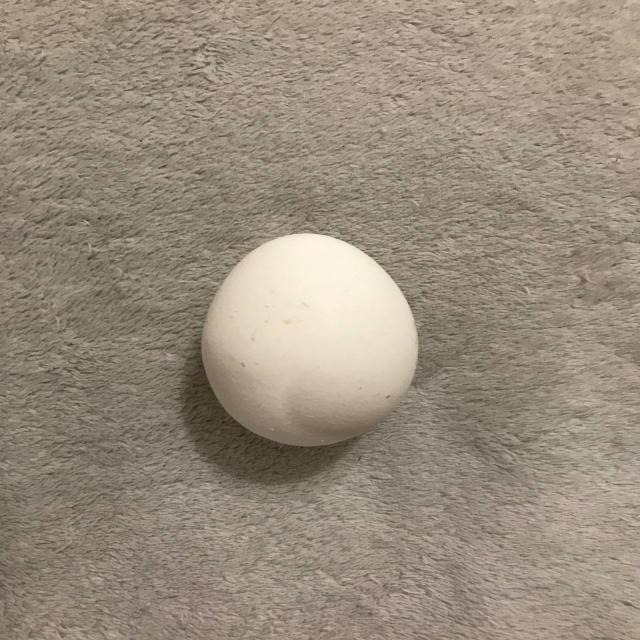egg: (200, 233, 420, 447)
